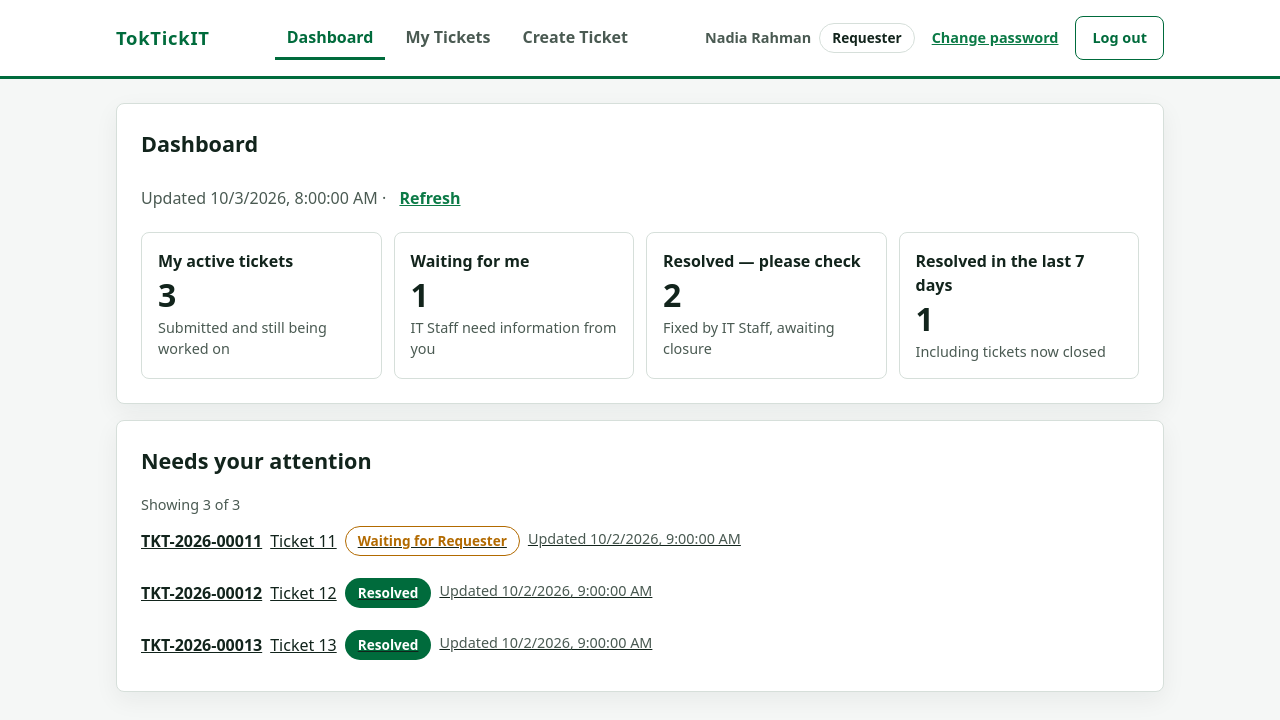
Test: UI-06 the four cards › drill down: My active tickets opens My Tickets with Active tickets chosen
Expected: the heading "Dashboard" is shown, [141, 129, 258, 158]
Click the link with aria-label "My active tickets: 3 tickets" at (261, 306), box [141, 232, 382, 379]
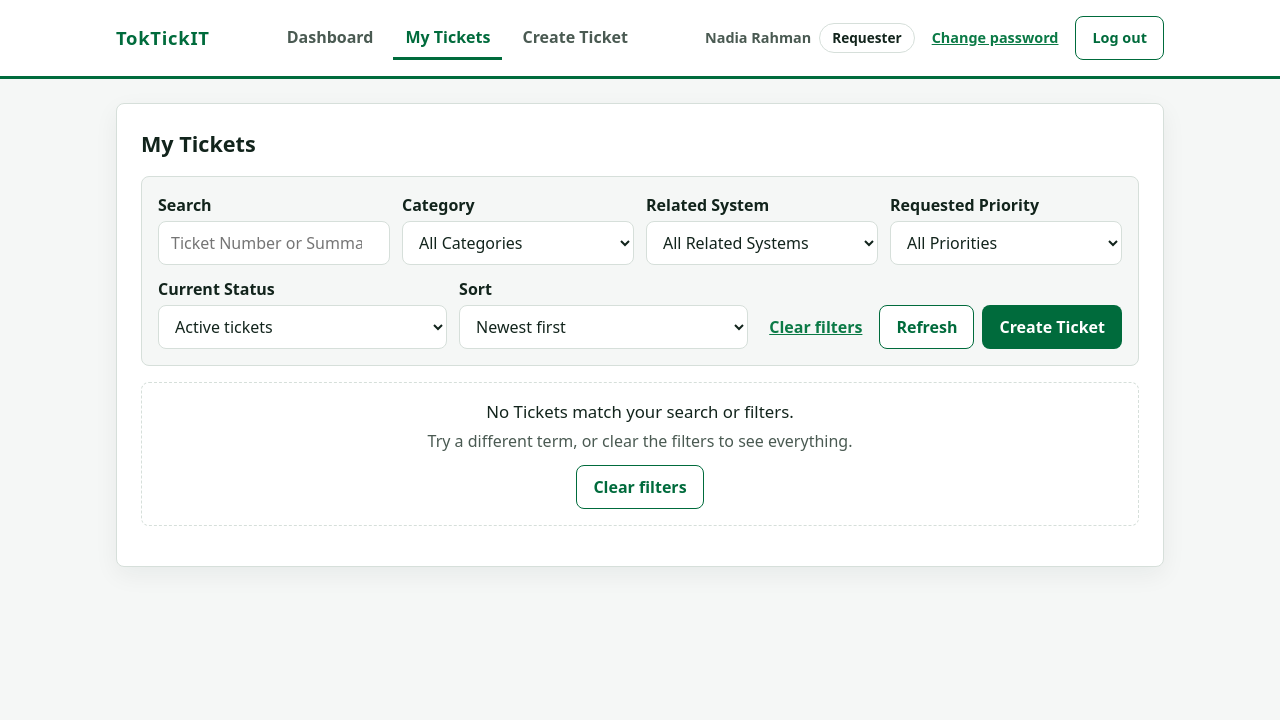
Result: the heading "My Tickets" is shown at [141, 129, 256, 158]
Result: the dropdown labelled "Current Status" shows "Active tickets" at [158, 305, 447, 349]
